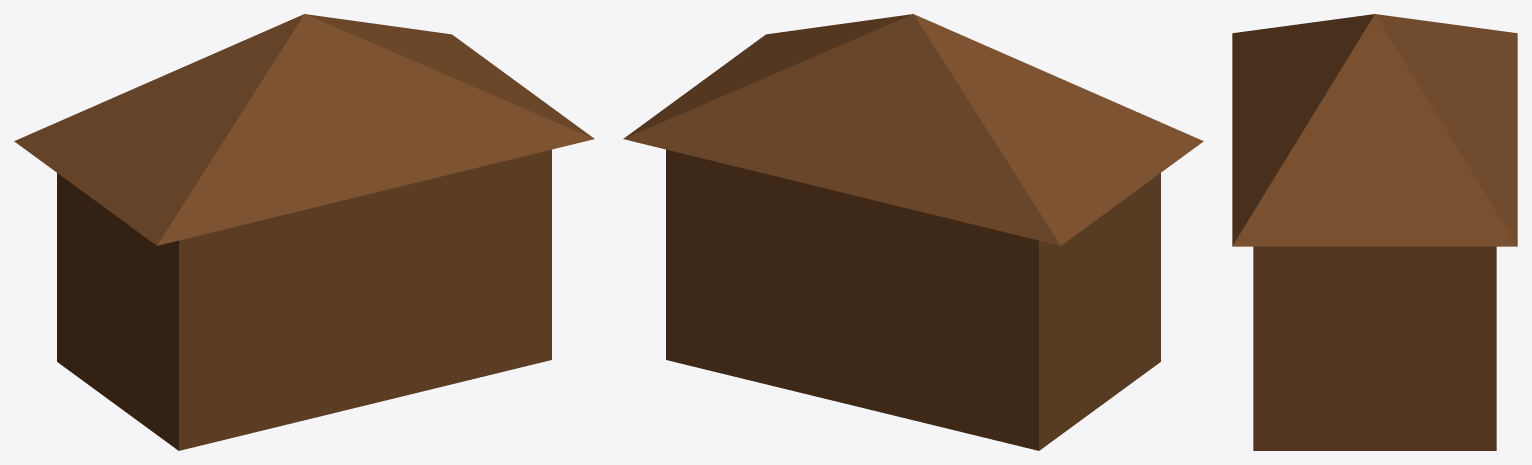
Rendered from medBuilding.glb.
3 renders of one model, left to right at view 1: azimuth 30°, elevation 25°; view 2: azimuth 150°, elevation 25°; view 3: azimuth 270°, elevation 25°, orthographic.
Visible parts, largest first — view 1: Cube.001; view 2: Cube.001; view 3: Cube.001.
Part boxes in pixels (x1,y1,x2,y2): Cube.001: (14,14,594,450); Cube.001: (623,14,1203,450); Cube.001: (1232,14,1517,450).
Bounding box in the file's own units: 4.15 × 3.14 × 2.35.
